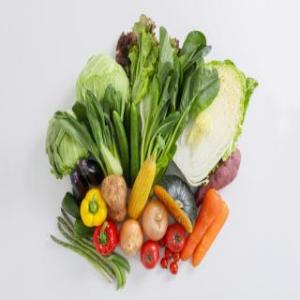cabbage: (74, 52, 131, 114)
carrot: (178, 189, 220, 261), (190, 199, 229, 267)
eggplant: (77, 156, 103, 188), (70, 168, 87, 205)
onion: (142, 200, 168, 240), (121, 220, 143, 256)
